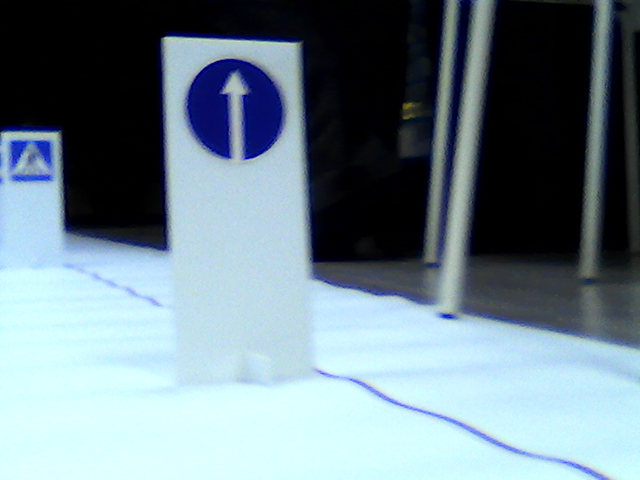forw: (184, 55, 286, 165)
pesh: (6, 139, 52, 180)
